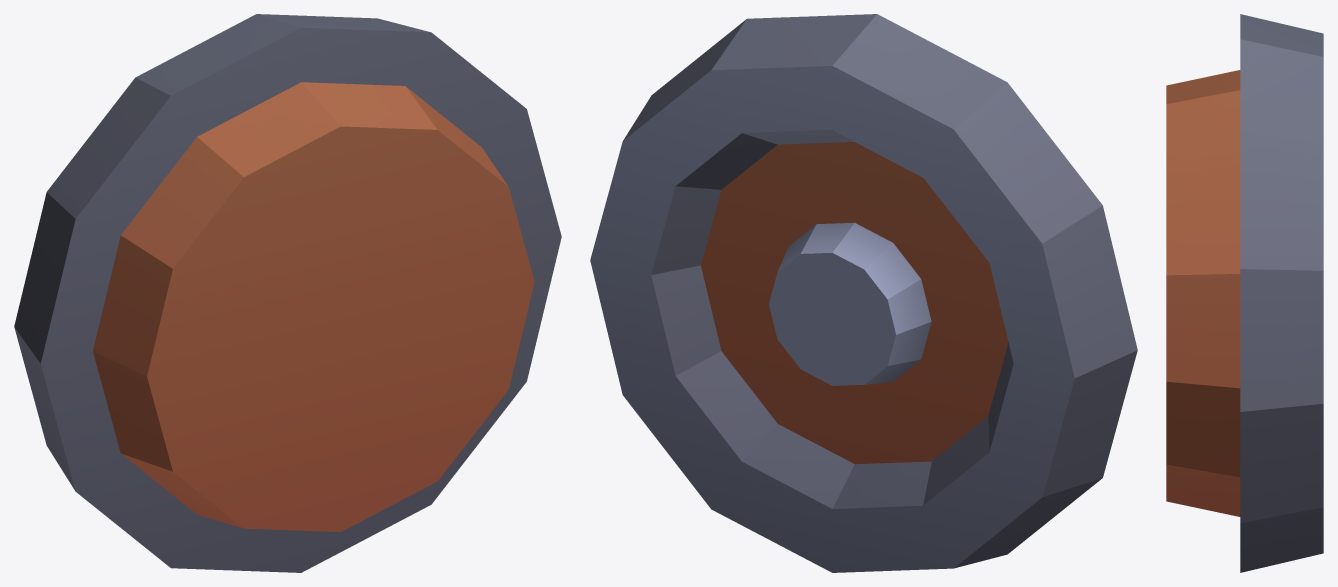
The model's file is shield-round.glb.
The picture shows the model from 3 angles, left to right: view 1: azimuth 30°, elevation 25°; view 2: azimuth 150°, elevation 25°; view 3: azimuth 270°, elevation 25°; orthographic projection. The views are drawn at different scales.
Visible parts, largest first — view 1: geometry_0; view 2: geometry_0; view 3: geometry_0.
Part boxes in pixels (x1,y1,x2,y2): geometry_0: [14, 14, 561, 572]; geometry_0: [590, 14, 1137, 572]; geometry_0: [1166, 14, 1323, 572].
Size of the model in its own units: 1.08 by 1.08 by 0.3029.
